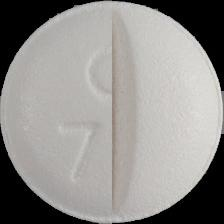52125-846: (0, 0, 224, 224)
